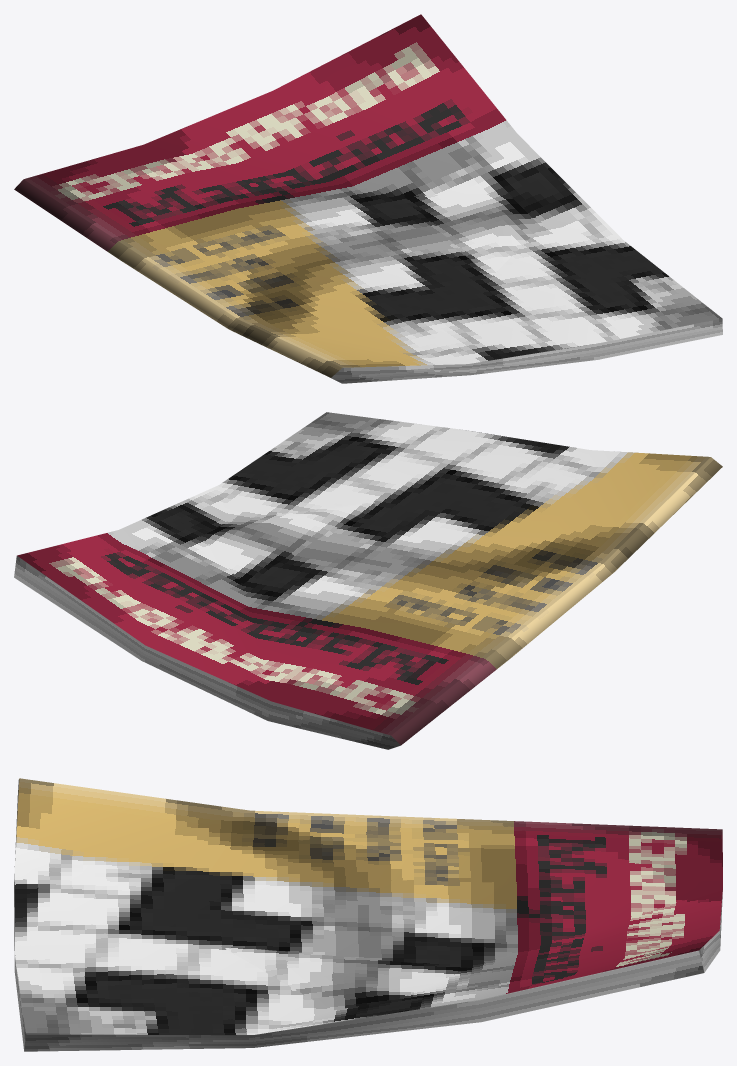
The model's file is Magazine2Used.fbx.
The picture shows the model from 3 angles, top to bottom: view 1: azimuth 30°, elevation 25°; view 2: azimuth 150°, elevation 25°; view 3: azimuth 270°, elevation 25°; orthographic projection. The views are drawn at different scales.
Parts seen in each view (by area): view 1: Magazine; view 2: Magazine; view 3: Magazine.
Boxes of the visible parts, <box> form: Magazine: <box>14,14,722,383</box>; Magazine: <box>14,412,722,749</box>; Magazine: <box>14,778,722,1051</box>.
Size of the model in its own units: 38.74 by 8.76 by 54.11.
